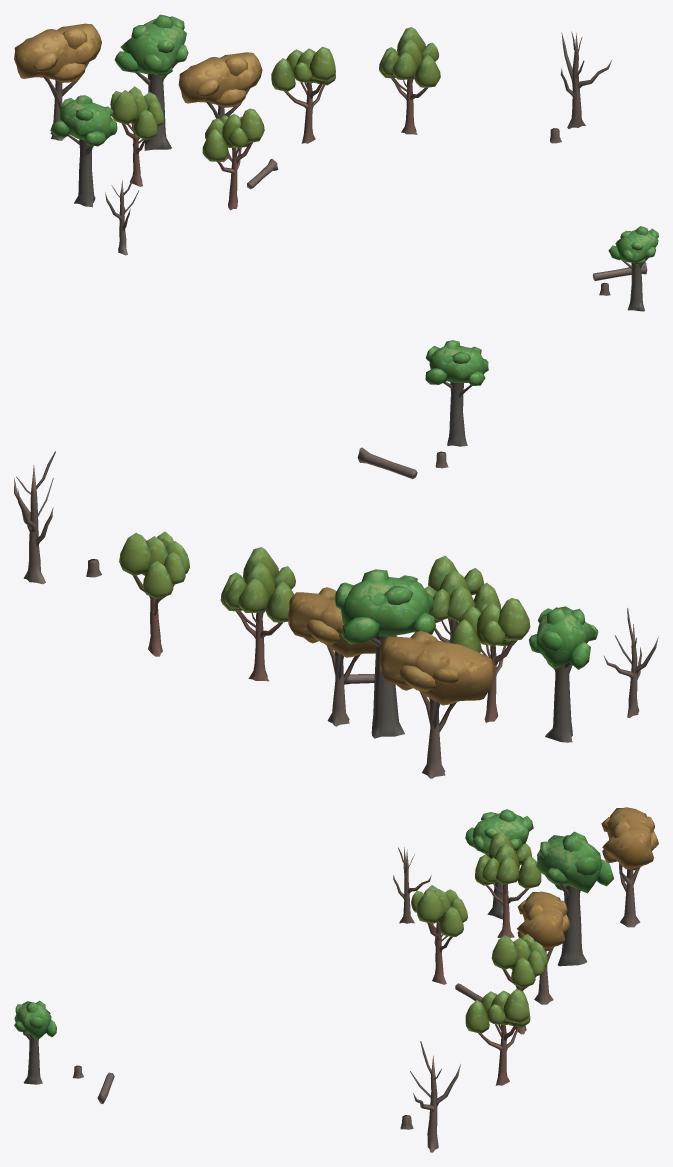
File: trees_env.gltf
3 views of the same model, one above another, from view 1: azimuth 30°, elevation 25°; view 2: azimuth 150°, elevation 25°; view 3: azimuth 270°, elevation 25° (orthographic). The views are drawn at different scales.
Parts seen in each view (by area): view 1: trees_env_mesh; view 2: trees_env_mesh; view 3: trees_env_mesh.
Boxes of the visible parts, x1,y1,x2,y2 form: trees_env_mesh: (14, 14, 658, 311); trees_env_mesh: (14, 340, 658, 778); trees_env_mesh: (14, 807, 658, 1152).
Bounding box in the file's own units: 16.57 × 4.53 × 18.07.
Materials: 1 (1 with a texture image).
